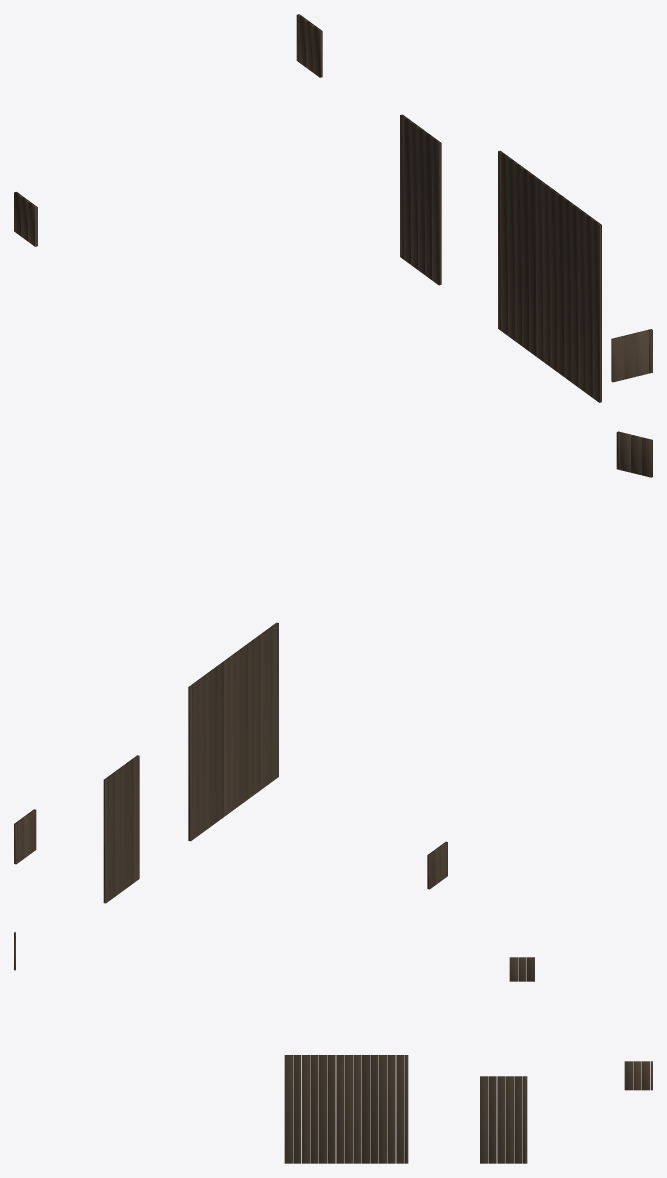
Rendered from SM_BarnWood_10.glb.
The picture shows the model from 3 angles, top to bottom: view 1: azimuth 30°, elevation 25°; view 2: azimuth 150°, elevation 25°; view 3: azimuth 270°, elevation 25°; orthographic projection. The views are drawn at different scales.
Visible parts, largest first — view 1: SM_BarnWood_10; view 2: SM_BarnWood_10; view 3: SM_BarnWood_10.
Boxes of the visible parts, box(x1,y1,x2,y2) form: SM_BarnWood_10: box(14, 14, 652, 402); SM_BarnWood_10: box(14, 431, 652, 903); SM_BarnWood_10: box(14, 932, 652, 1163).
Bounding box in the file's own units: 5.64 × 3.9 × 13.41.
